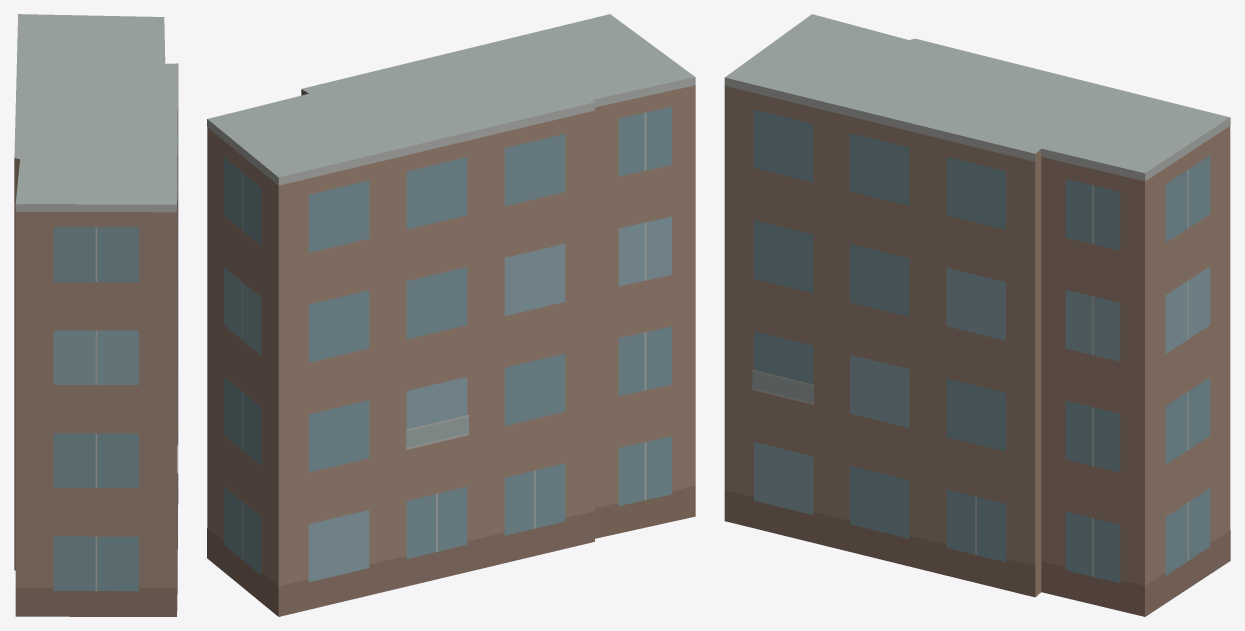
Rendered from survey-upis-32461074.glb.
3 renders of one model, left to right at view 1: azimuth 30°, elevation 25°; view 2: azimuth 150°, elevation 25°; view 3: azimuth 270°, elevation 25°, orthographic. The views are drawn at different scales.
Visible parts, largest first — view 1: survey-upis-32461074.tmp; view 2: survey-upis-32461074.tmp; view 3: survey-upis-32461074.tmp.
Part boxes in pixels (left/top/right/bottom): survey-upis-32461074.tmp: left=14, top=14, right=178, bottom=616; survey-upis-32461074.tmp: left=207, top=14, right=695, bottom=616; survey-upis-32461074.tmp: left=724, top=14, right=1230, bottom=616.
Bounding box in the file's own units: 10.22 × 13.25 × 13.7.
